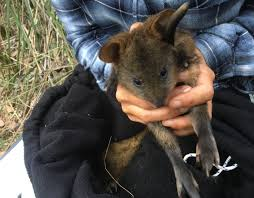quokka: (99, 8, 224, 180)
